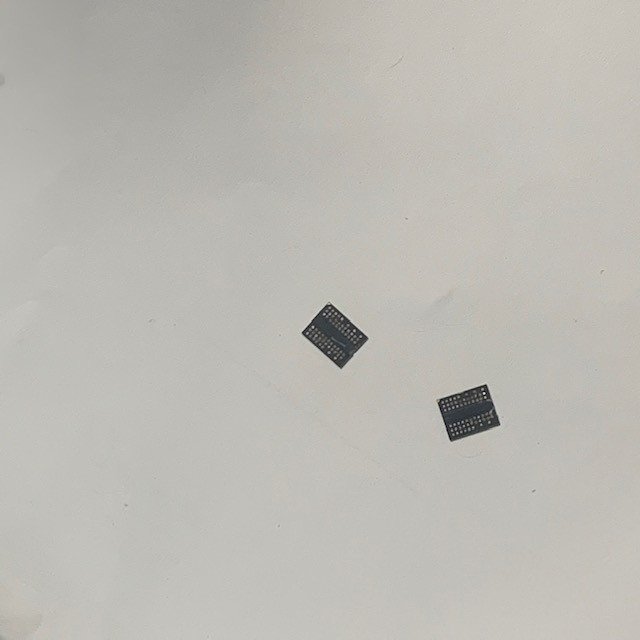IC: (297, 300, 371, 371), (435, 382, 502, 443)
